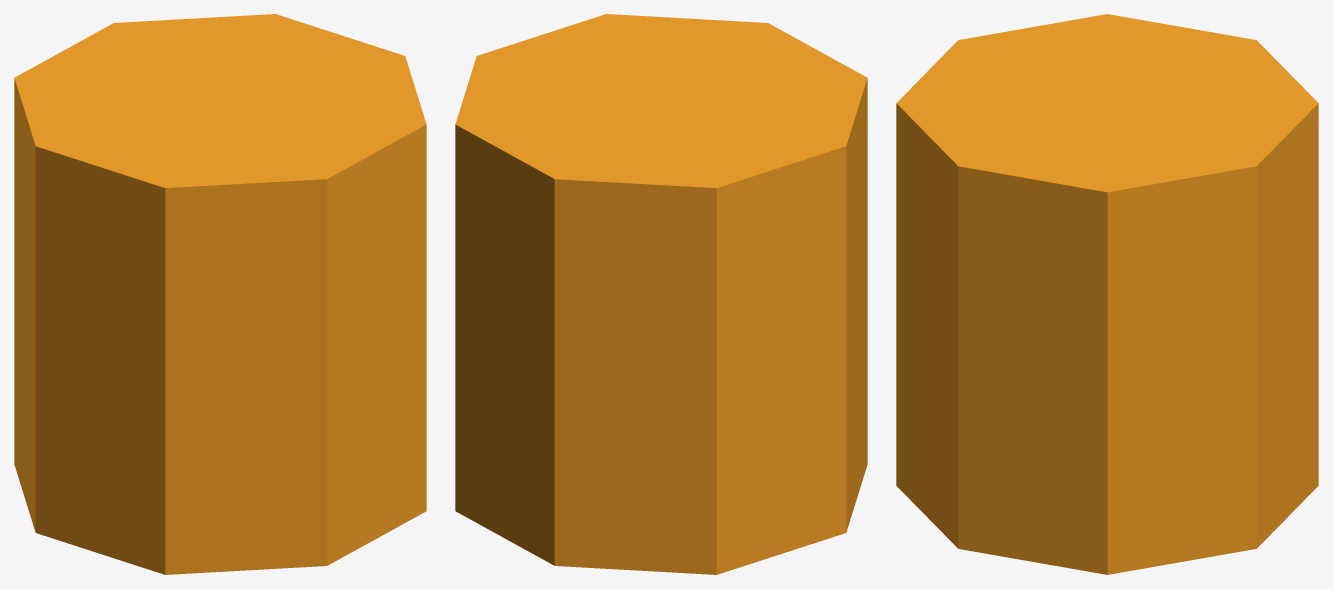
File: SM_Primitive_Cylander_02.fbx
3 views of the same model, side by side, from view 1: azimuth 30°, elevation 25°; view 2: azimuth 150°, elevation 25°; view 3: azimuth 270°, elevation 25° (orthographic).
Parts seen in each view (by area): view 1: SM_Primitive_Cylander_02; view 2: SM_Primitive_Cylander_02; view 3: SM_Primitive_Cylander_02.
Part boxes in pixels (box(x1,y1,x2,y2)): SM_Primitive_Cylander_02: box(14, 14, 426, 574); SM_Primitive_Cylander_02: box(455, 14, 867, 574); SM_Primitive_Cylander_02: box(896, 14, 1318, 574).
Size of the model in its own units: 100 by 100 by 100.
